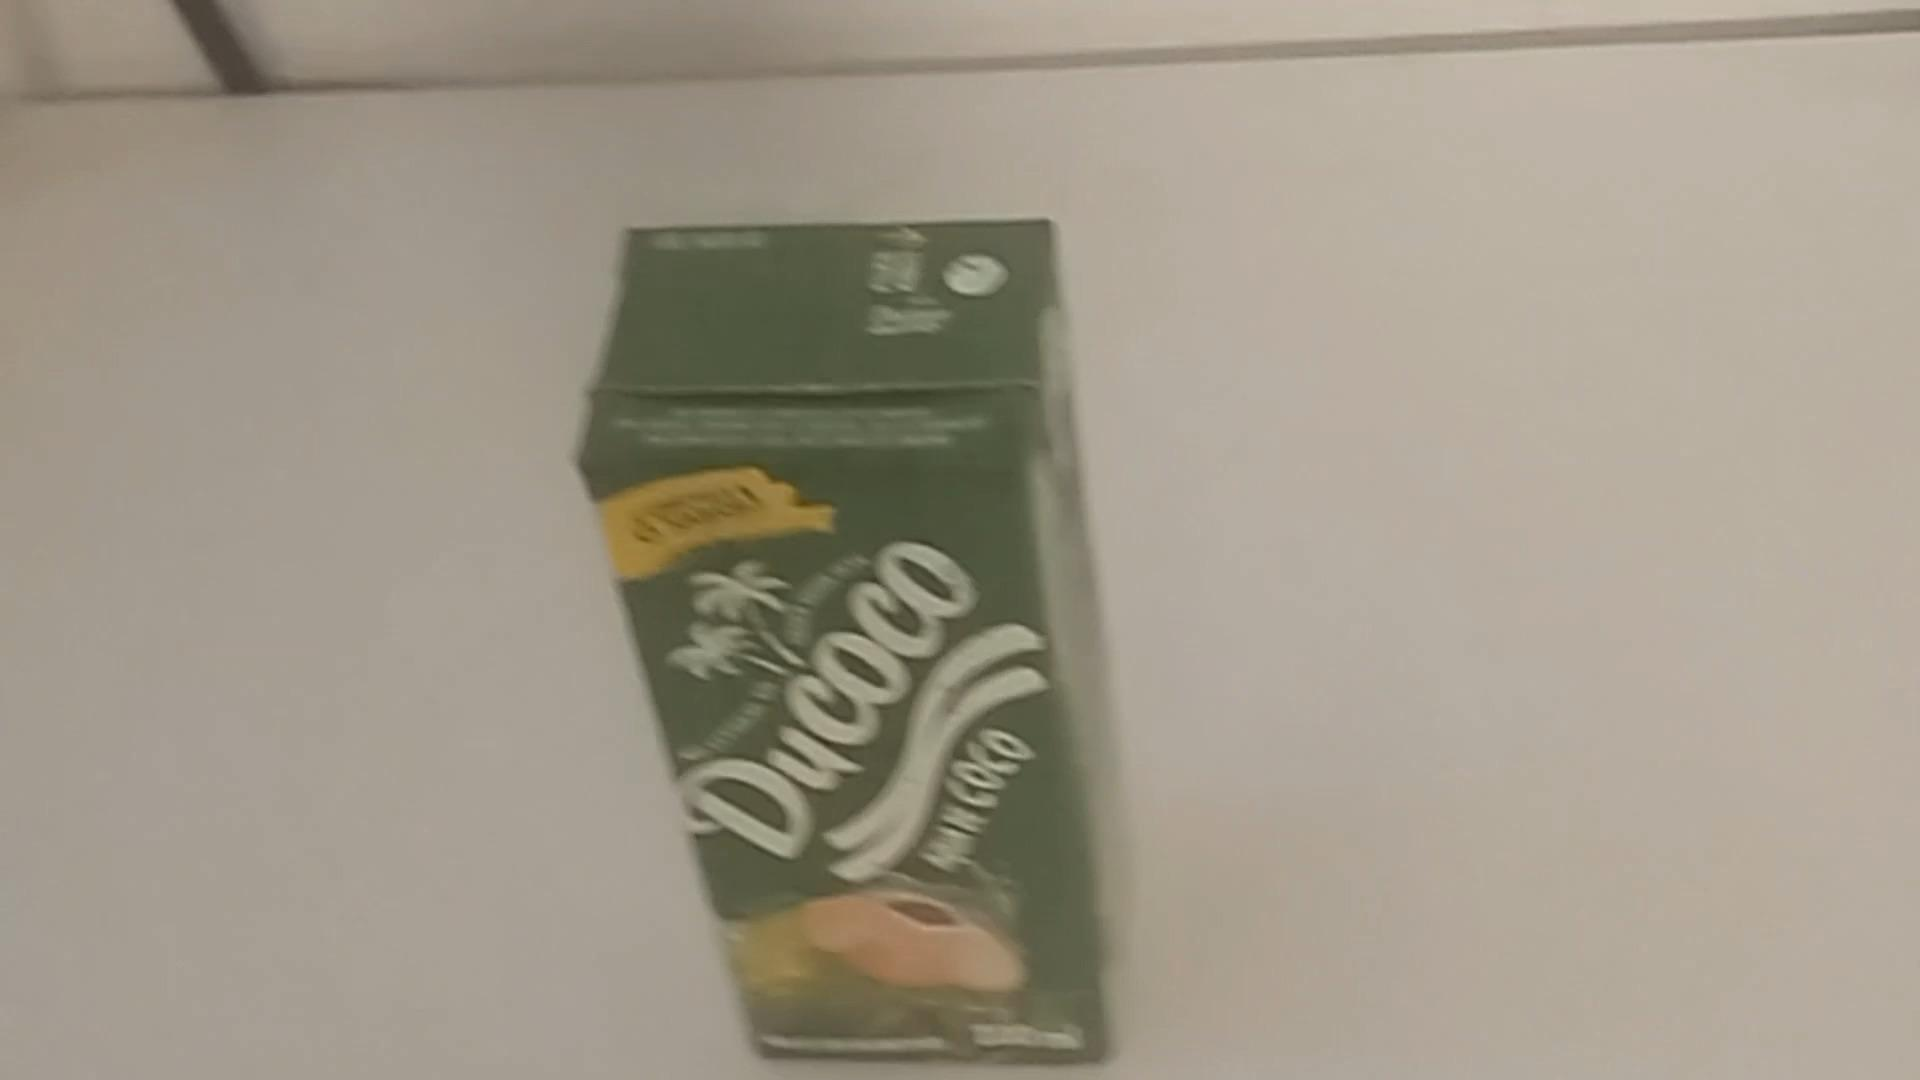coco: (574, 219, 1125, 1077)
